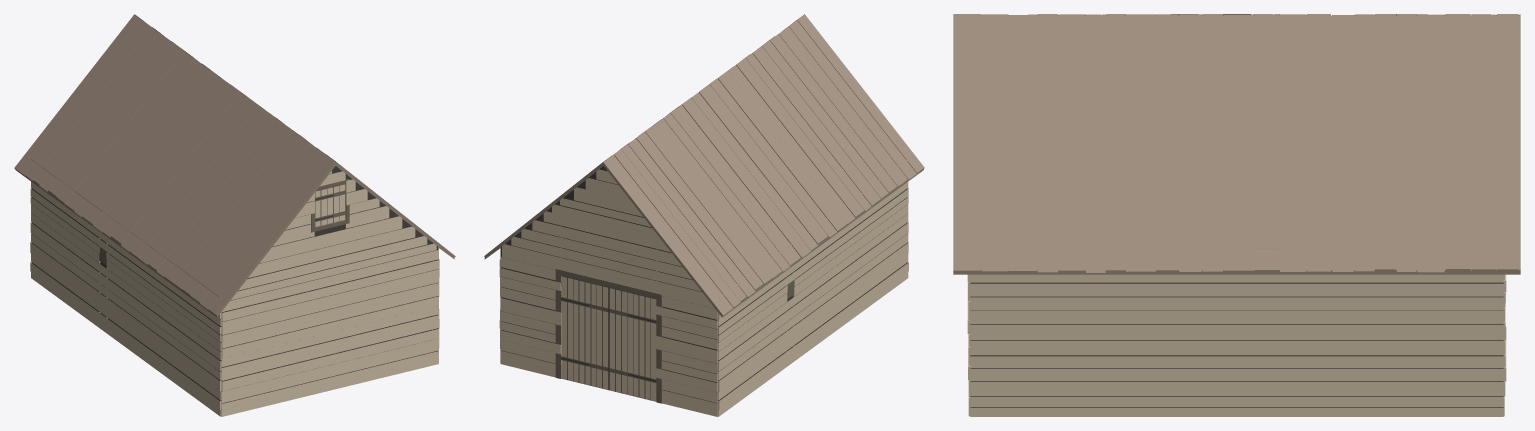
The model's file is recon_1835_south_a2_047__inferred_1835.glb.
3 renders of one model, left to right at view 1: azimuth 30°, elevation 25°; view 2: azimuth 150°, elevation 25°; view 3: azimuth 270°, elevation 25°, orthographic. The views are drawn at different scales.
Visible parts, largest first — view 1: recon_1835_south_a2_047__inferred_1835; view 2: recon_1835_south_a2_047__inferred_1835; view 3: recon_1835_south_a2_047__inferred_1835.
Part boxes in pixels (left/top/right/bottom): recon_1835_south_a2_047__inferred_1835: left=14, top=14, right=455, bottom=416; recon_1835_south_a2_047__inferred_1835: left=484, top=14, right=924, bottom=416; recon_1835_south_a2_047__inferred_1835: left=953, top=14, right=1520, bottom=416.
Size of the model in its own units: 7.31 by 6.77 by 10.61.
